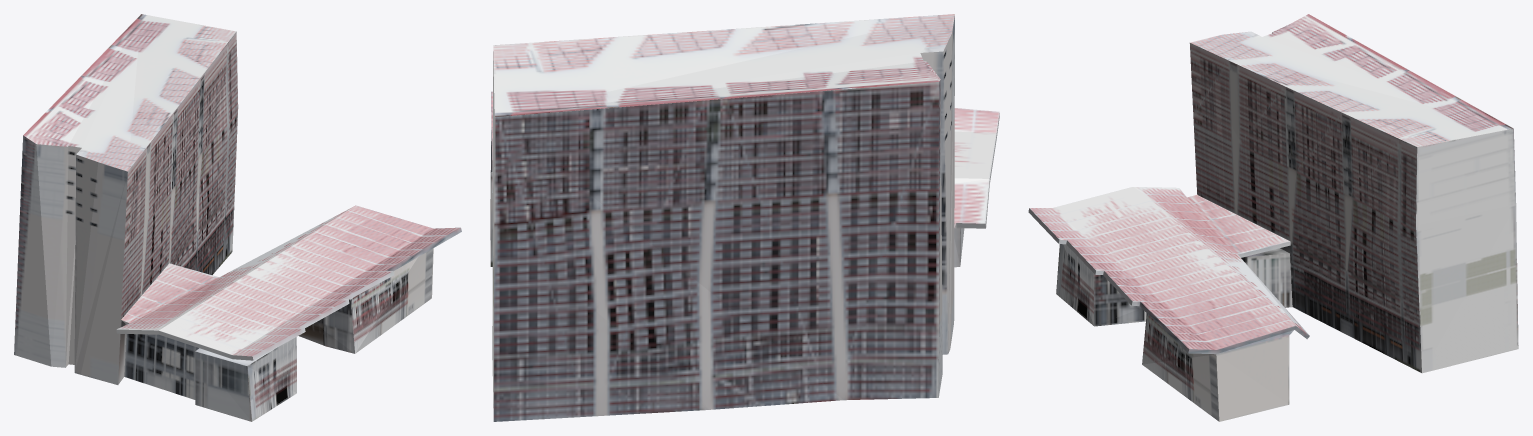
The model's file is 211MIX.glb.
3 renders of one model, left to right at view 1: azimuth 30°, elevation 25°; view 2: azimuth 150°, elevation 25°; view 3: azimuth 270°, elevation 25°, orthographic. The views are drawn at different scales.
Visible parts, largest first — view 1: 2.11copy; view 2: 2.11copy; view 3: 2.11copy.
Part boxes in pixels (x1=…): 2.11copy: x1=14, y1=14, x2=461, y2=421; 2.11copy: x1=490, y1=14, x2=999, y2=421; 2.11copy: x1=1028, y1=14, x2=1518, y2=421.
Size of the model in its own units: 99.78 by 55.37 by 108.
Materials: 1 (1 with a texture image).
